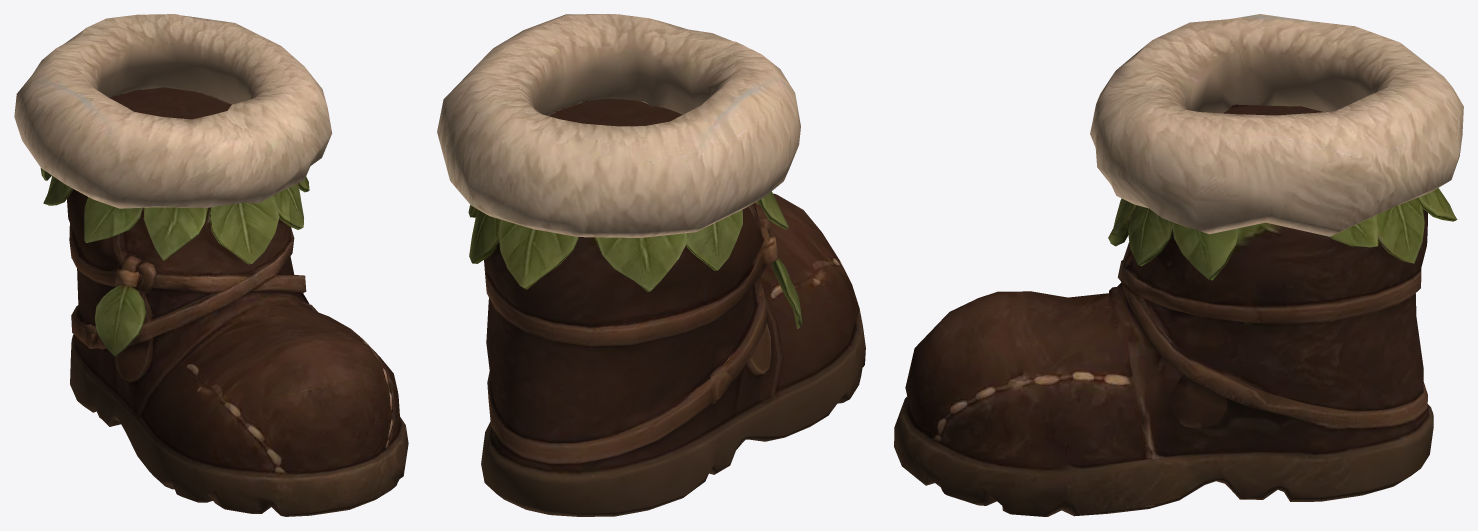
Rendered from botte_forestier.glb.
The picture shows the model from 3 angles, left to right: view 1: azimuth 30°, elevation 25°; view 2: azimuth 150°, elevation 25°; view 3: azimuth 270°, elevation 25°; orthographic projection. The views are drawn at different scales.
Size of the model in its own units: 0.4659 by 0.5888 by 0.7852.
1 material, 1 textured.
